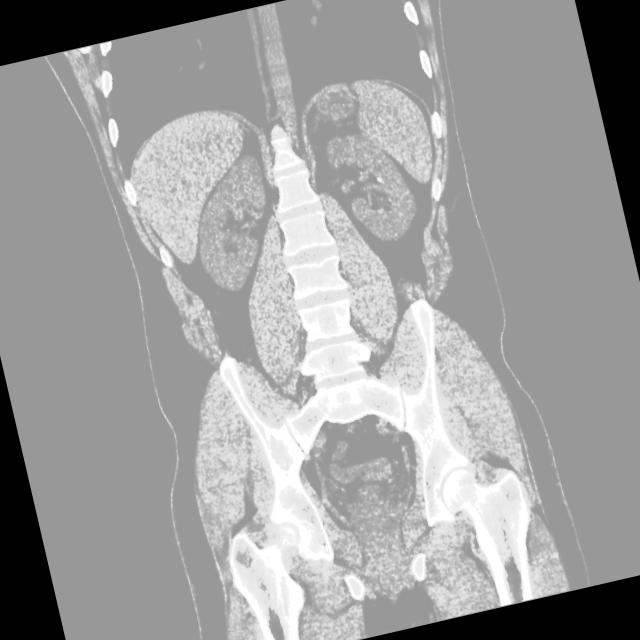STONE: (162, 97, 522, 515)
